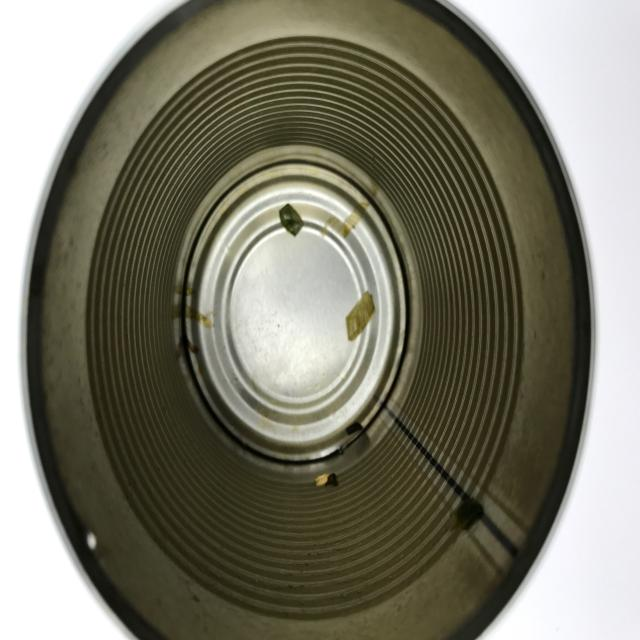metal: (21, 0, 596, 640)
